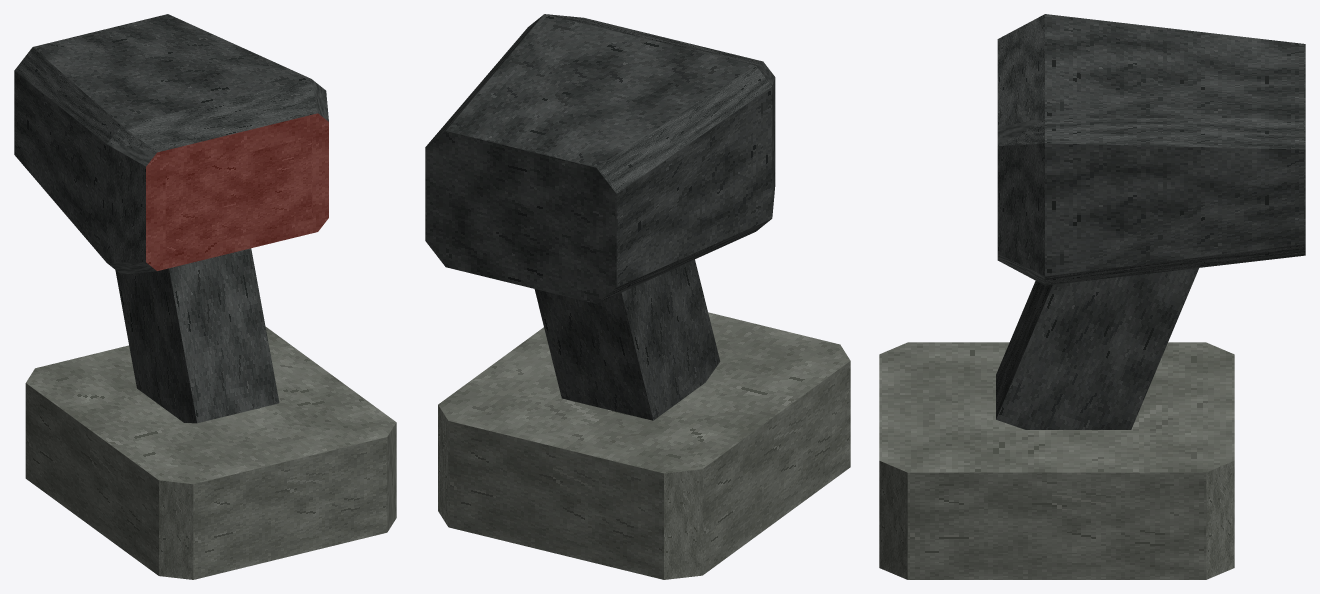
The model's file is scanner.glb.
The picture shows the model from 3 angles, left to right: view 1: azimuth 30°, elevation 25°; view 2: azimuth 150°, elevation 25°; view 3: azimuth 270°, elevation 25°; orthographic projection. The views are drawn at different scales.
Parts seen in each view (by area): view 1: Body, ScanWindow; view 2: Body; view 3: Body.
Boxes of the visible parts, <box> form: Body: <box>14,14,396,579</box>; ScanWindow: <box>165,137,311,254</box>; Body: <box>425,14,850,579</box>; Body: <box>879,14,1305,579</box>.
Size of the model in its own units: 0.13 by 0.209 by 0.18.
1 material, 1 textured.
